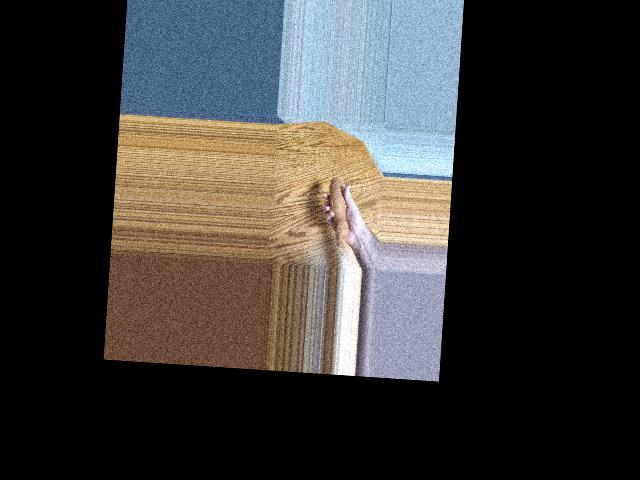sweet_potato: (323, 175, 358, 255)
